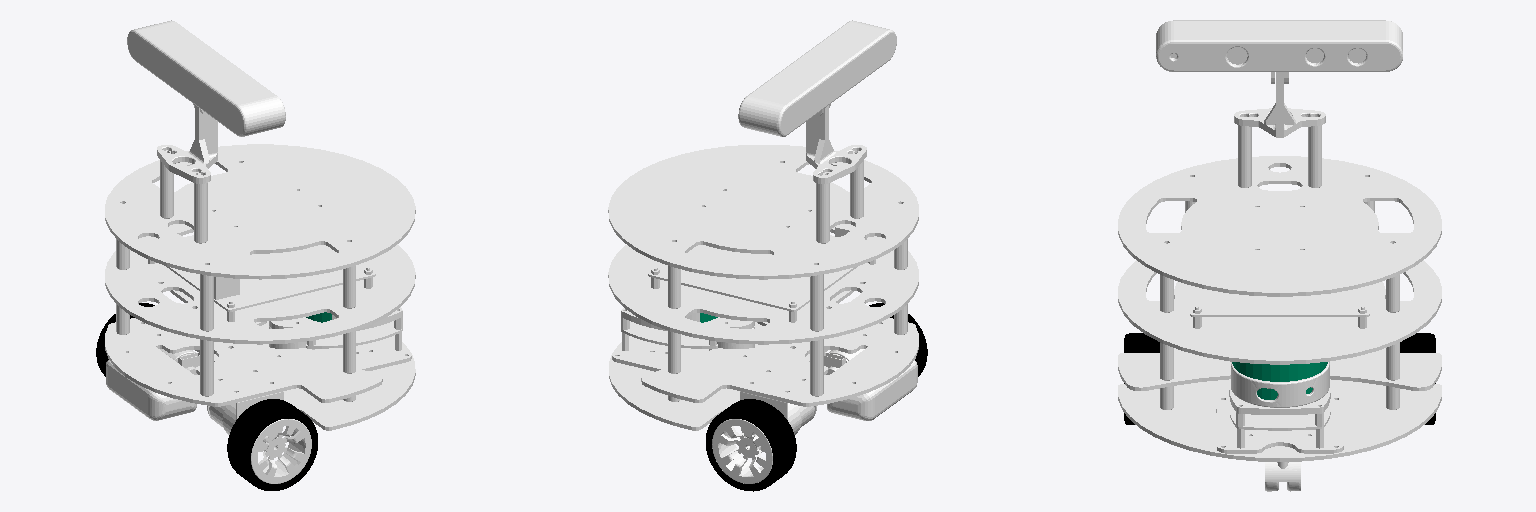
The robot description file, URDF, robot "mrobot_description":
<robot name="mrobot_description">


  <link name="base_link">
    <inertial>
      <origin
        xyz="0.00012805 0.067839 0.014988"
        rpy="0 0 0" />
      <mass
        value="1.13" />
      <inertia
        ixx="0.011733"
        ixy="-2.1139E-05"
        ixz="-1.398E-05"
        iyy="0.0064746"
        iyz="-0.00058227"
        izz="0.011226" />
    </inertial>
    <visual>
      <origin
        xyz="0 0 0"
        rpy="0 0 0" />
      <geometry>
        <mesh
          filename="package://mrobot_description/meshes/base_link.STL" />
      </geometry>
      <material
        name="">
        <color
          rgba="30 144 255 1" />
      </material>
    </visual>
    <collision>
      <origin
        xyz="0 0 0"
        rpy="0 0 0" />
      <geometry>
        <mesh
          filename="package://mrobot_description/meshes/base_link.STL" />
      </geometry>
    </collision>
  </link>

  <link name="base_footprint" />
  <joint name="base_footprint_joint" type="fixed">
    <origin xyz="0 0 0.04" rpy="0 0 0" />
    <parent link="base_footprint" />
    <child  link="base_link" />
  </joint>

  <link name="laser" type="fixed">
    <visual>
      <geometry>
        <cylinder length="0.04" radius="0.034"/>
      </geometry>
      <color rgba="0.1 0.1 0.1 0.9"/>
    </visual>
  </link>
  <joint name="lidar_joint" type="fixed">
    <origin xyz="0.07 0 0.055"/>
    <parent link="base_link"/>
    <child link="laser"/>
  </joint>

  <link name="right_Link">
    <inertial>
      <origin
        xyz="-0.013424 -3.9066E-15 -1.3878E-15"
        rpy="0 0 0" />
      <mass
        value="0.030933" />
      <inertia
        ixx="2.669E-05"
        ixy="1.8775E-21"
        ixz="1.1283E-21"
        iyy="1.5083E-05"
        iyz="-6.3527E-22"
        izz="1.5083E-05" />
    </inertial>
    <visual>
      <origin
        xyz="0 0 0"
        rpy="0 0 0" />
      <geometry>
        <mesh
          filename="package://mrobot_description/meshes/right_Link.STL" />
      </geometry>
      <material
        name="">
        <color
          rgba="0 0 0 1" />
      </material>
    </visual>
    <collision>
      <origin
        xyz="0 0 0"
        rpy="0 0 0" />
      <geometry>
        <mesh
          filename="package://mrobot_description/meshes/right_Link.STL" />
      </geometry>
    </collision>
  </link>
  <joint name="right_Link_joint" type="continuous">
    <origin
      xyz="-0.045 -0.083326 -0.01"
      rpy="-1.4908 -1.713E-16 1.5708" />
    <parent
      link="base_link" />
    <child
      link="right_Link" />
    <axis
      xyz="-1 0 0" />
  </joint>
  <link name="left_Link">
    <inertial>
      <origin
        xyz="-0.013426 3.9309E-15 -1.3323E-15"
        rpy="0 0 0" />
      <mass
        value="0.030933" />
      <inertia
        ixx="2.669E-05"
        ixy="-7.4072E-21"
        ixz="1.7487E-21"
        iyy="1.5083E-05"
        iyz="2.1176E-22"
        izz="1.5083E-05" />
    </inertial>
    <visual>
      <origin
        xyz="0 0 0"
        rpy="0 0 0" />
      <geometry>
        <mesh
          filename="package://mrobot_description/meshes/left_Link.STL" />
      </geometry>
      <material
        name="">
        <color
          rgba="0 0 0 1" />
      </material>
    </visual>
    <collision>
      <origin
        xyz="0 0 0"
        rpy="0 0 0" />
      <geometry>
        <mesh
          filename="package://mrobot_description/meshes/left_Link.STL" />
      </geometry>
    </collision>
  </link>
  <joint name="left_Link_joint" type="continuous">
    <origin
      xyz="-0.045 0.083324 -0.01"
      rpy="1.4749 -6.1854E-16 -1.5708" />
    <parent
      link="base_link" />
    <child
      link="left_Link" />
    <axis
      xyz="1 0 0" />
  </joint>

</robot>

--- Facts derived from the render (not from the file) ---
The picture shows the robot from 3 angles, left to right: view 1: azimuth 30°, elevation 25°; view 2: azimuth 150°, elevation 25°; view 3: azimuth 270°, elevation 25°; orthographic projection.
Model mrobot_description with 5 links and 4 joints (2 continuous, 2 fixed), rooted at base_footprint, posed every joint at zero.
Visible links, largest first — view 1: base_link, right_Link; view 2: base_link, left_Link; view 3: base_link, laser, right_Link, left_Link.
Boxes of the visible links, x1=… form: base_link: x1=105, y1=20, x2=415, y2=483; right_Link: x1=227, y1=399, x2=317, y2=490; base_link: x1=608, y1=20, x2=918, y2=483; left_Link: x1=706, y1=399, x2=796, y2=491; base_link: x1=1118, y1=20, x2=1441, y2=491; laser: x1=1232, y1=362, x2=1327, y2=399; right_Link: x1=1124, y1=333, x2=1159, y2=424; left_Link: x1=1400, y1=333, x2=1435, y2=424.
Bounding box of the posed robot: 0.23 × 0.2298 × 0.3047 m (x, y, z).
3 mesh visuals loaded from 3 distinct referenced files (3 binary STL).